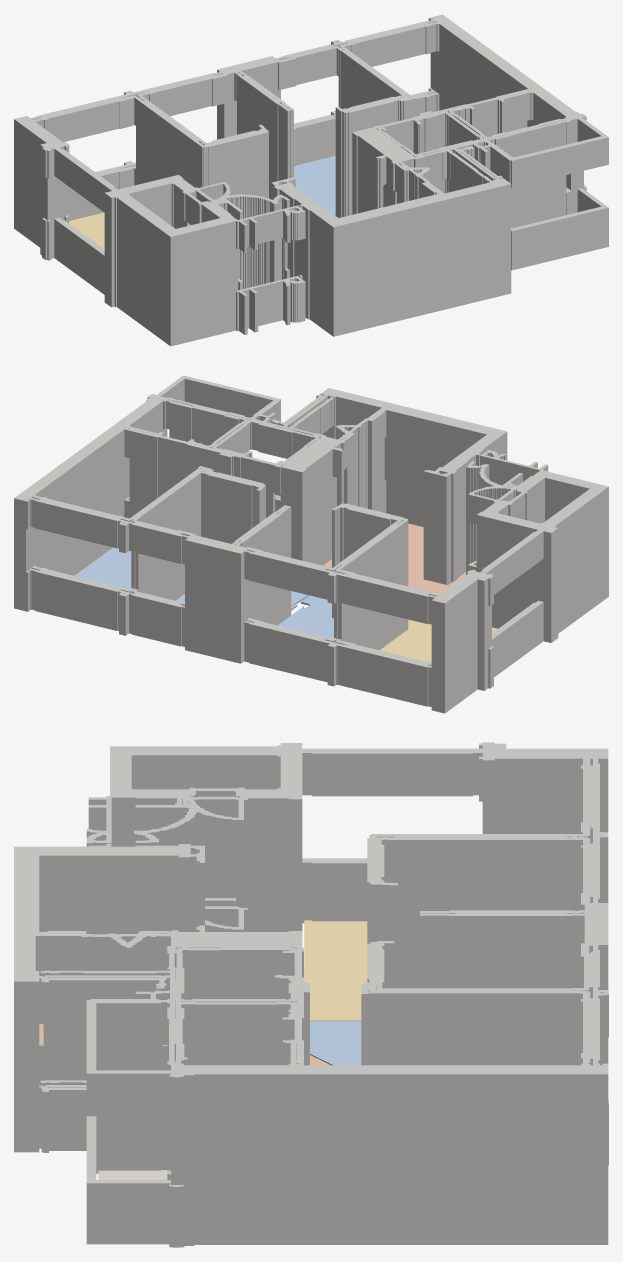
The picture shows the model from 3 angles, top to bottom: view 1: azimuth 30°, elevation 25°; view 2: azimuth 150°, elevation 25°; view 3: azimuth 270°, elevation 25°; orthographic projection. The views are drawn at different scales.
Parts seen in each view (by area): view 1: walls, room:bedroom:2, room:living:0; view 2: walls, room:bedroom:1, room:bedroom:3, room:kitchen:5, room:living:0; view 3: walls, room:living:0, room:bedroom:1, room:other:10.
Part boxes in pixels (x1,y1,x2,y2): walls: (14,14,608,346); room:bedroom:2: (294,156,338,218); room:living:0: (69,212,104,248); walls: (14,375,608,713); room:bedroom:1: (278,595,333,638); room:bedroom:3: (75,547,131,588); room:kitchen:5: (324,523,465,594); room:living:0: (380,619,497,662); walls: (14,742,608,1247); room:living:0: (304,920,367,1021); room:bedroom:1: (310,1021,361,1065); room:other:10: (98,1170,167,1179).
Bounding box in the file's own units: 11.79 × 2.8 × 8.85.
